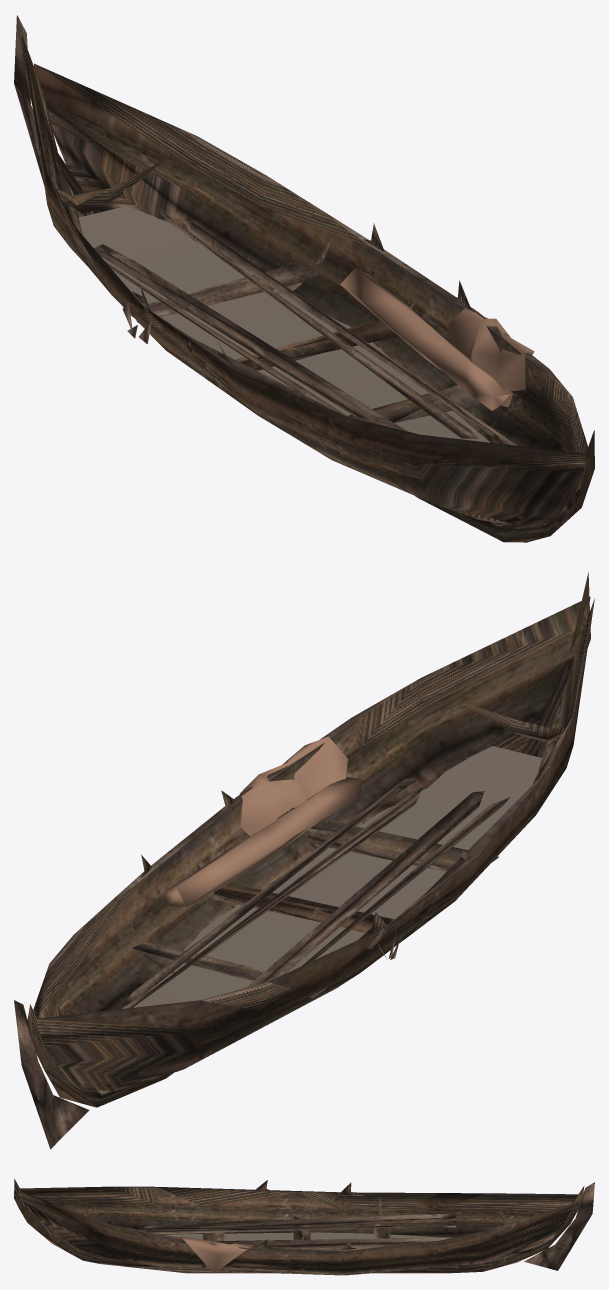
The model's file is oselvar-boat.lod1.glb.
The picture shows the model from 3 angles, top to bottom: view 1: azimuth 30°, elevation 25°; view 2: azimuth 150°, elevation 25°; view 3: azimuth 270°, elevation 25°; orthographic projection. The views are drawn at different scales.
Visible parts, largest first — view 1: Oselvar1_HullMAT_0, Oselvar1_Iron_0; view 2: Oselvar1_HullMAT_0, Oselvar1_Iron_0; view 3: Oselvar1_HullMAT_0, Oselvar1_Iron_0.
Part boxes in pixels (x1,y1,x2,y2): Oselvar1_HullMAT_0: [14, 15, 594, 542]; Oselvar1_Iron_0: [78, 206, 534, 442]; Oselvar1_HullMAT_0: [14, 572, 594, 1149]; Oselvar1_Iron_0: [133, 736, 541, 1007]; Oselvar1_HullMAT_0: [14, 1179, 594, 1275]; Oselvar1_Iron_0: [163, 1232, 434, 1273].
Size of the model in its own units: 1.53 by 1.09 by 5.93.
Materials: 2 (1 with a texture image).
